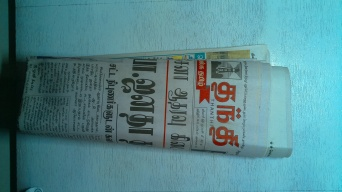p: (20, 45, 307, 174)
